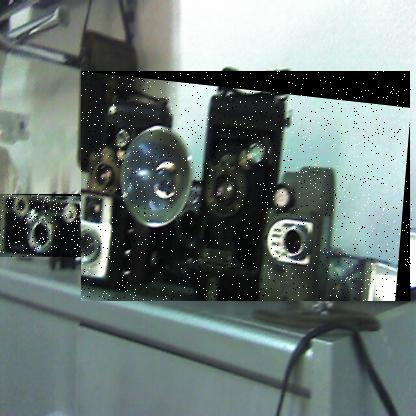Camera: (83, 72, 415, 303), (1, 195, 85, 259)
